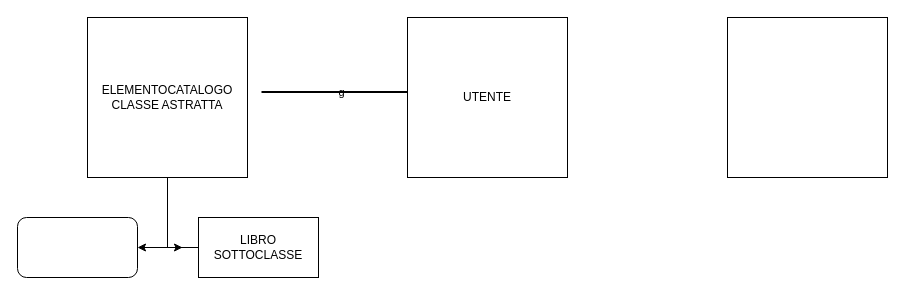
This 905x295 diagram has some shape labels left out. Each missing label, with the centre of its shape:
"PRESTITO" belongs at pixel 807 97.
"RIVISTA SOTTOCLASSE" belongs at pixel 77 247.
